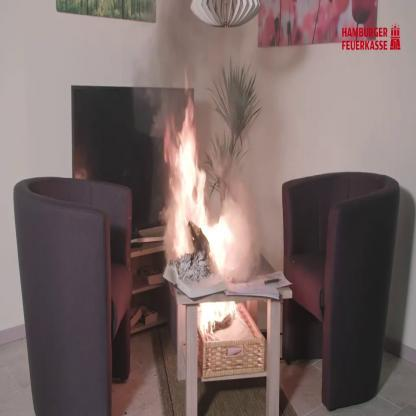fire: (156, 118, 225, 273), (198, 185, 250, 287), (192, 298, 257, 347)
